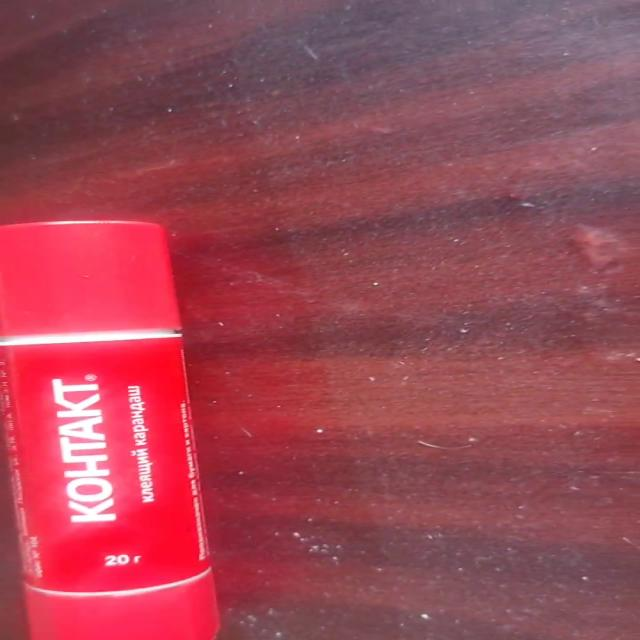glue: (0, 219, 220, 638)
